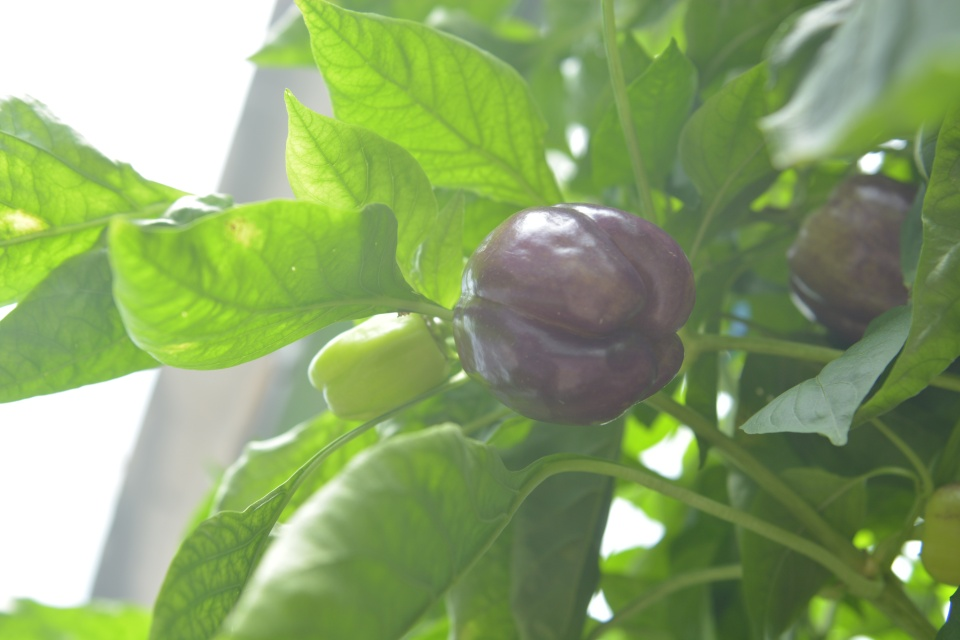fruit: (449, 198, 698, 429), (784, 169, 960, 371)
immature: (305, 309, 461, 425), (917, 483, 960, 588)
